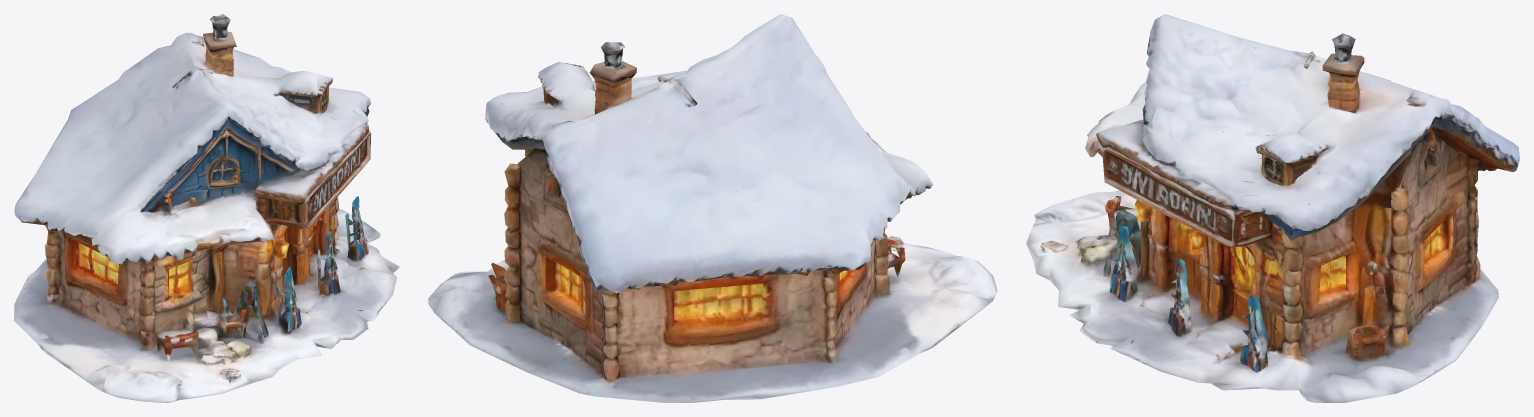
The model's file is dio_rental.glb.
The picture shows the model from 3 angles, left to right: view 1: azimuth 30°, elevation 25°; view 2: azimuth 150°, elevation 25°; view 3: azimuth 270°, elevation 25°; orthographic projection. The views are drawn at different scales.
Visible parts, largest first — view 1: tripo_part_7, tripo_part_2; view 2: tripo_part_7, tripo_part_2; view 3: tripo_part_2, tripo_part_7.
Boxes of the visible parts, bbox=[...] form: tripo_part_7: bbox=[14, 14, 371, 264]; tripo_part_2: bbox=[14, 135, 399, 402]; tripo_part_7: bbox=[485, 14, 932, 293]; tripo_part_2: bbox=[428, 149, 997, 402]; tripo_part_2: bbox=[1026, 132, 1498, 402]; tripo_part_7: bbox=[1085, 14, 1519, 240].
Bounding box in the file's own units: 0.368 × 0.2317 × 0.3638.
Materials: 2 (2 with a texture image).
